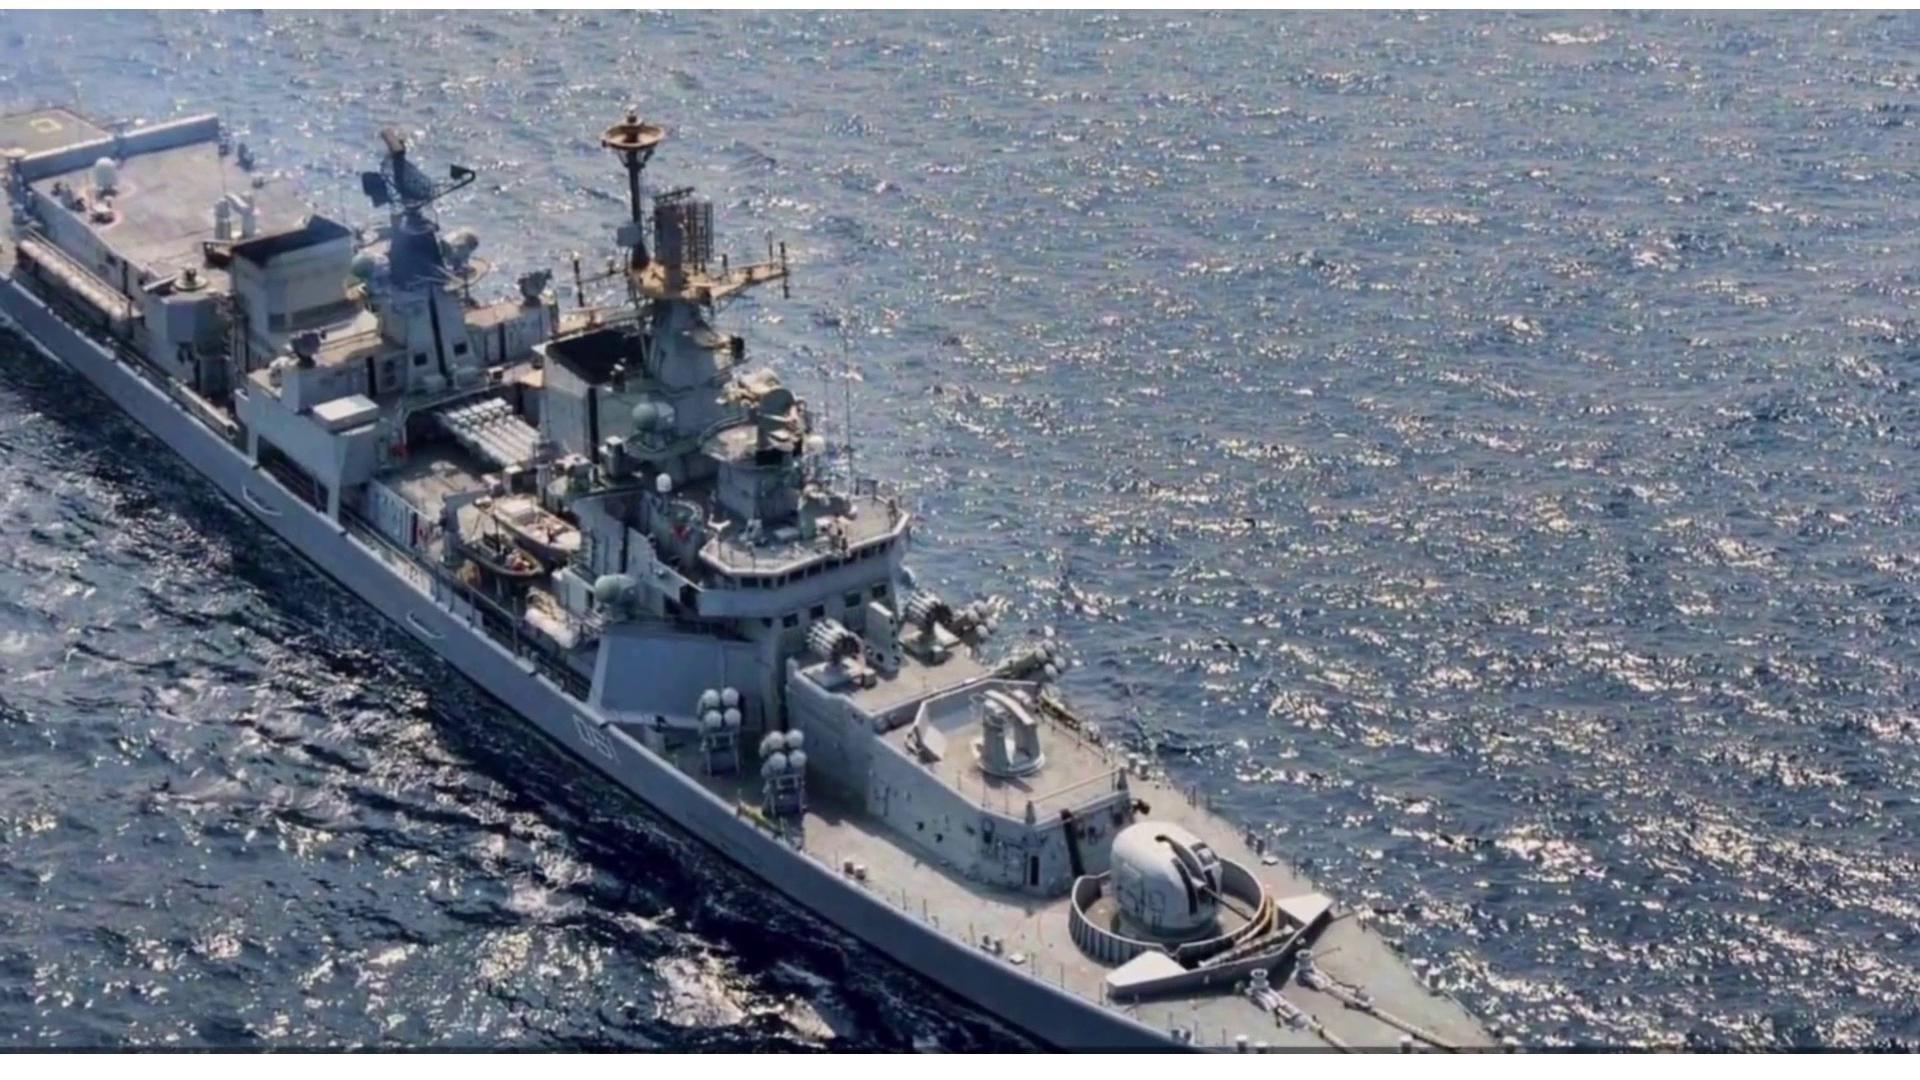OCR: (562, 700, 640, 780)
